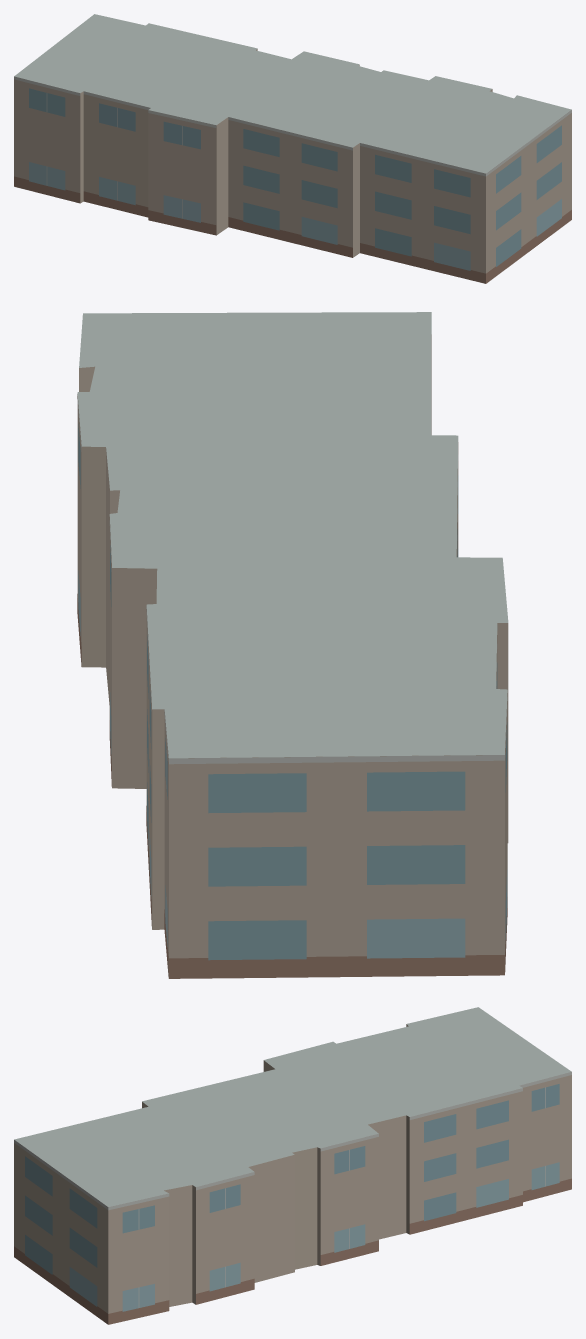
File: survey-upis-32606053.glb
The picture shows the model from 3 angles, top to bottom: view 1: azimuth 30°, elevation 25°; view 2: azimuth 150°, elevation 25°; view 3: azimuth 270°, elevation 25°; orthographic projection. The views are drawn at different scales.
Parts seen in each view (by area): view 1: survey-upis-32606053.tmp; view 2: survey-upis-32606053.tmp; view 3: survey-upis-32606053.tmp.
Part boxes in pixels (x1=…): survey-upis-32606053.tmp: x1=14, y1=14, x2=571, y2=283; survey-upis-32606053.tmp: x1=77, y1=312, x2=508, y2=978; survey-upis-32606053.tmp: x1=14, y1=1007, x2=571, y2=1324.
Bounding box in the file's own units: 33.39 × 9.15 × 39.34.
